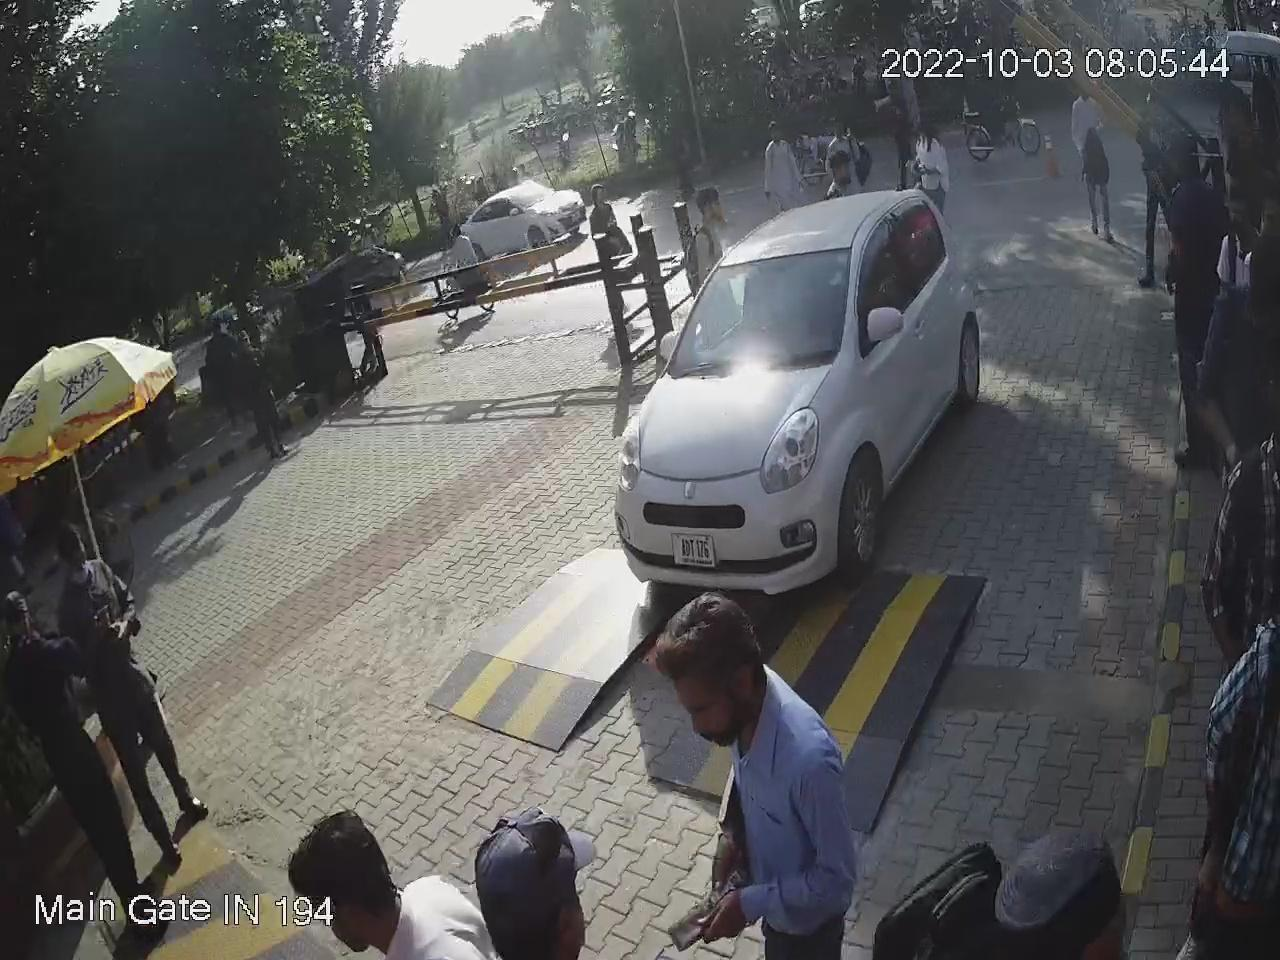windshield: (665, 235, 853, 380)
